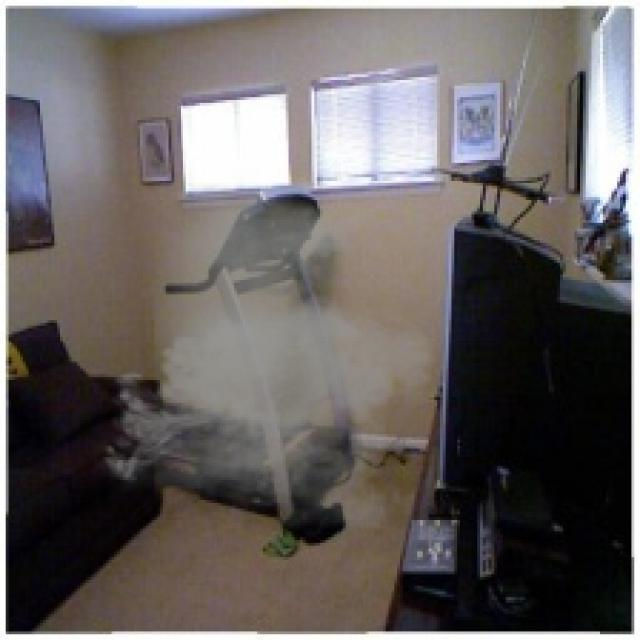Smoke: (91, 182, 448, 528)
